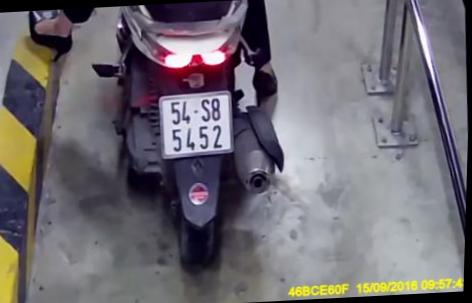LP: (157, 92, 237, 158)
